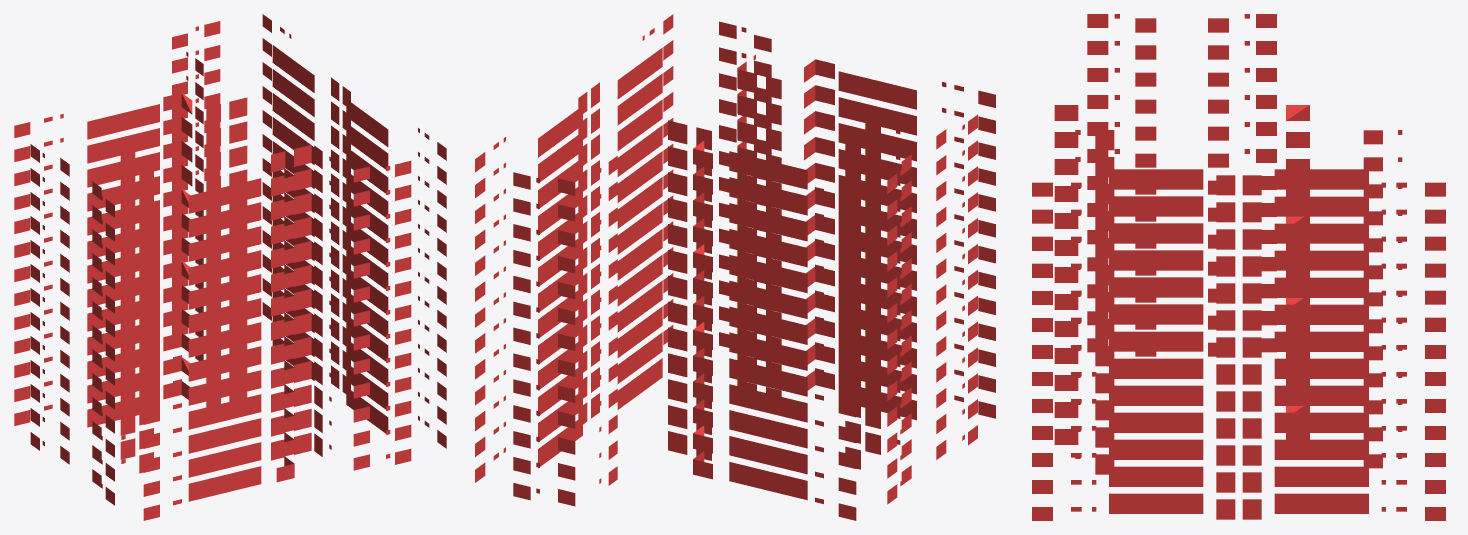
Rendered from 5acfbf79-006c-44cc-aaa1-af0399b8ac2f.gltf.
3 renders of one model, left to right at view 1: azimuth 30°, elevation 25°; view 2: azimuth 150°, elevation 25°; view 3: azimuth 270°, elevation 25°, orthographic. The views are drawn at different scales.
Parts seen in each view (by area): view 1: window; view 2: window; view 3: window.
Part boxes in pixels (x1,y1,x2,y2): window: (14,14,446,520); window: (475,14,995,520); window: (1032,14,1445,520).
Bounding box in the file's own units: 379 × 361 × 408.
